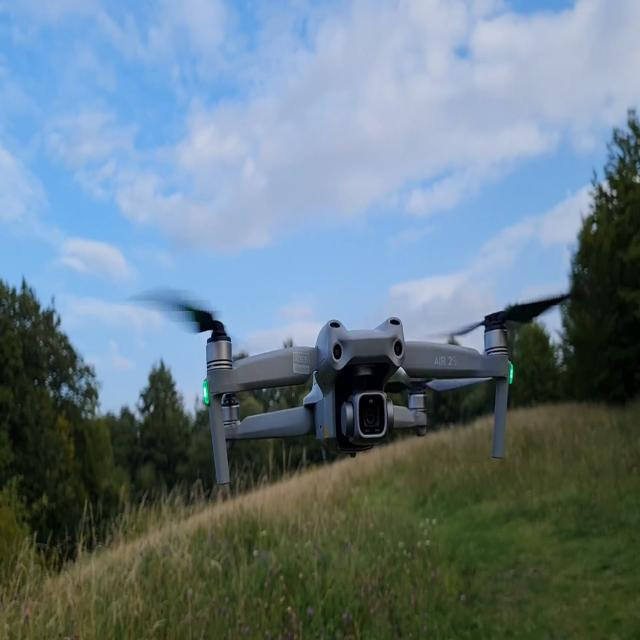drone: (125, 284, 572, 486)
